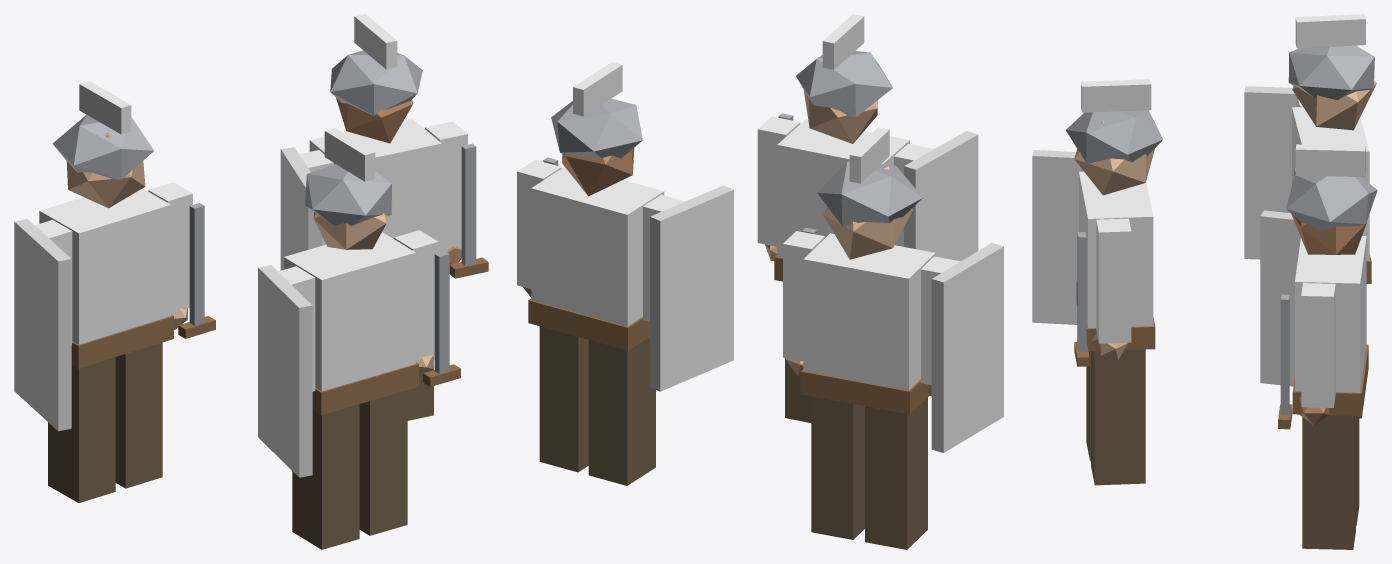
The model's file is Swordsman.glb.
3 renders of one model, left to right at view 1: azimuth 30°, elevation 25°; view 2: azimuth 150°, elevation 25°; view 3: azimuth 270°, elevation 25°, orthographic. The views are drawn at different scales.
Visible parts, largest first — view 1: Units_Swordsman; view 2: Units_Swordsman; view 3: Units_Swordsman.
Part boxes in pixels (x1=…): Units_Swordsman: x1=14, y1=14, x2=488, y2=549; Units_Swordsman: x1=517, y1=14, x2=1003, y2=549; Units_Swordsman: x1=1032, y1=14, x2=1377, y2=549.
Bounding box in the file's own units: 0.248 × 0.205 × 0.1689.
